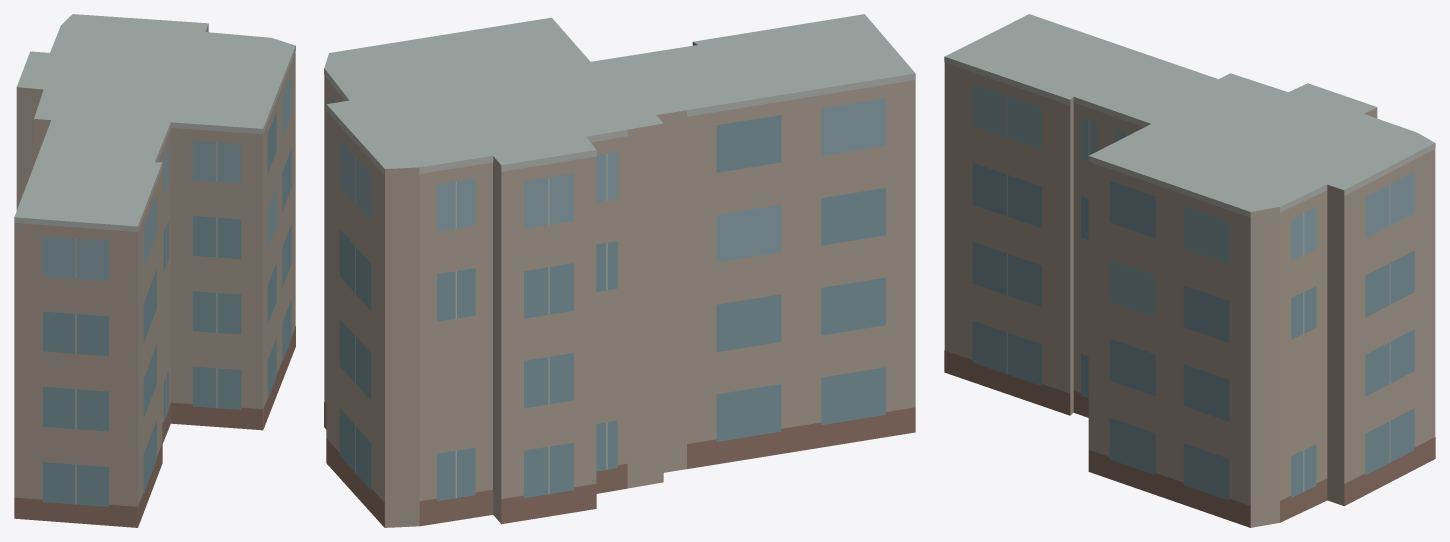
The model's file is survey-upis-32739753.glb.
The picture shows the model from 3 angles, left to right: view 1: azimuth 30°, elevation 25°; view 2: azimuth 150°, elevation 25°; view 3: azimuth 270°, elevation 25°; orthographic projection. The views are drawn at different scales.
Parts seen in each view (by area): view 1: survey-upis-32739753.tmp; view 2: survey-upis-32739753.tmp; view 3: survey-upis-32739753.tmp.
Part boxes in pixels (left/top/right/bottom): survey-upis-32739753.tmp: left=14, top=14, right=295, bottom=527; survey-upis-32739753.tmp: left=324, top=14, right=915, bottom=527; survey-upis-32739753.tmp: left=944, top=14, right=1435, bottom=527.
Bounding box in the file's own units: 17.88 × 13.3 × 18.74.
